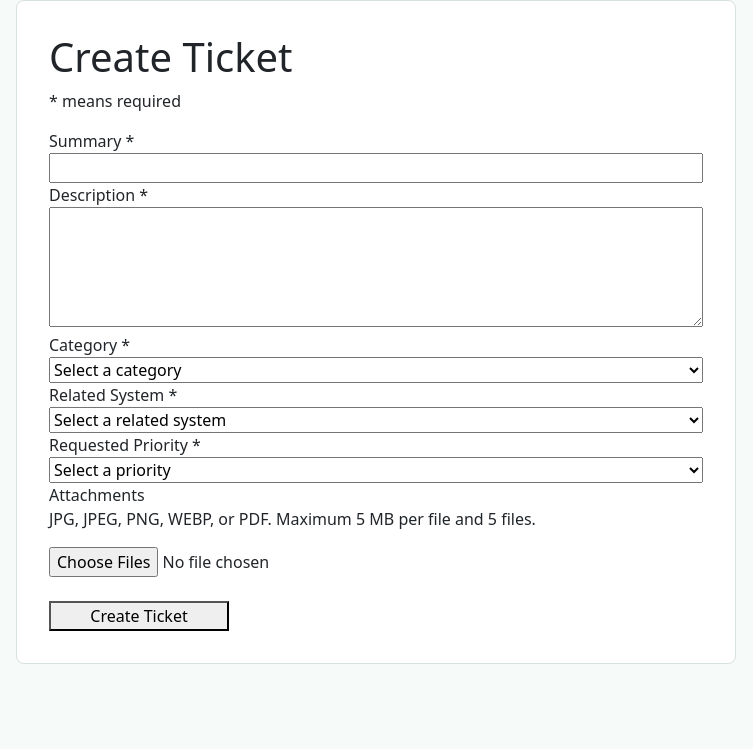
Test: Issue 3 Create Ticket screen › UI-02 shows required validation and focuses the first invalid field
Click the button "Create Ticket".
click(139, 616)  # box top-left (49, 601), bottom-right (229, 631)
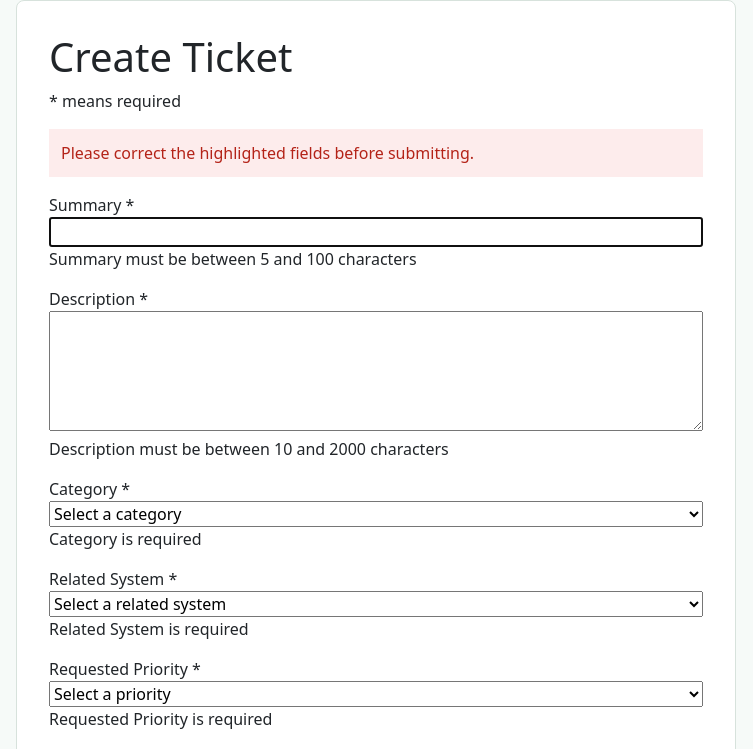
expect the text "Summary must be between 5 and 100 characters" is shown: met, box top-left (49, 248), bottom-right (417, 270)
expect the message "Please correct the highlighted fields before submitting." is shown: met, box top-left (49, 129), bottom-right (703, 177)
